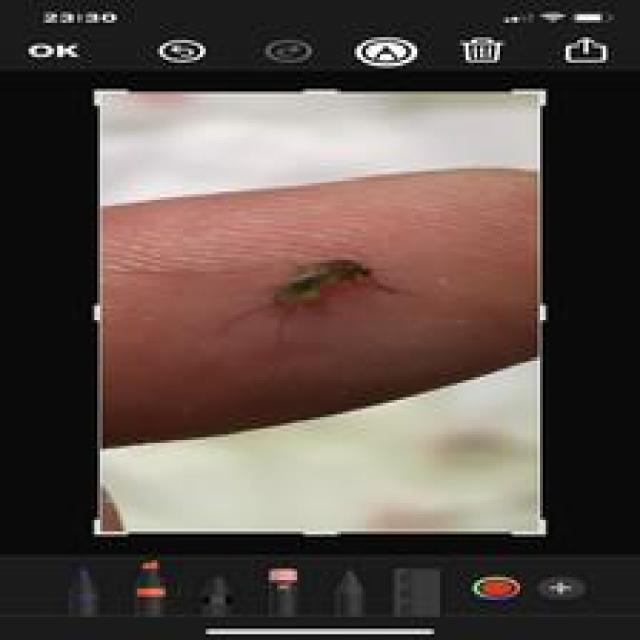Culex: (223, 256, 411, 344)
